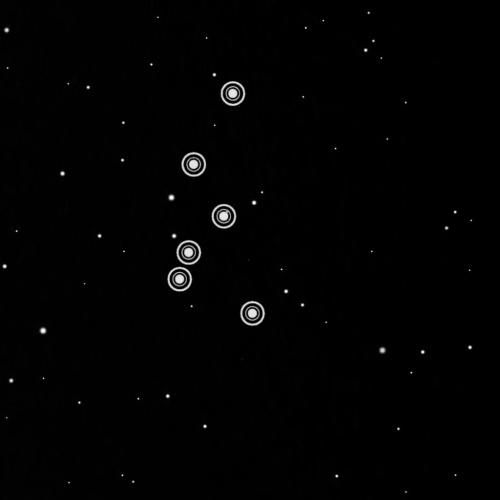cassiopeia: (158, 74, 271, 332)
